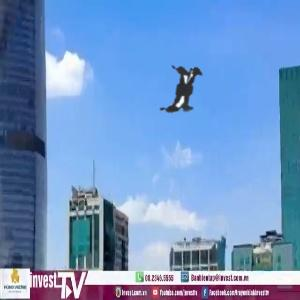drone: (107, 11, 264, 168)
